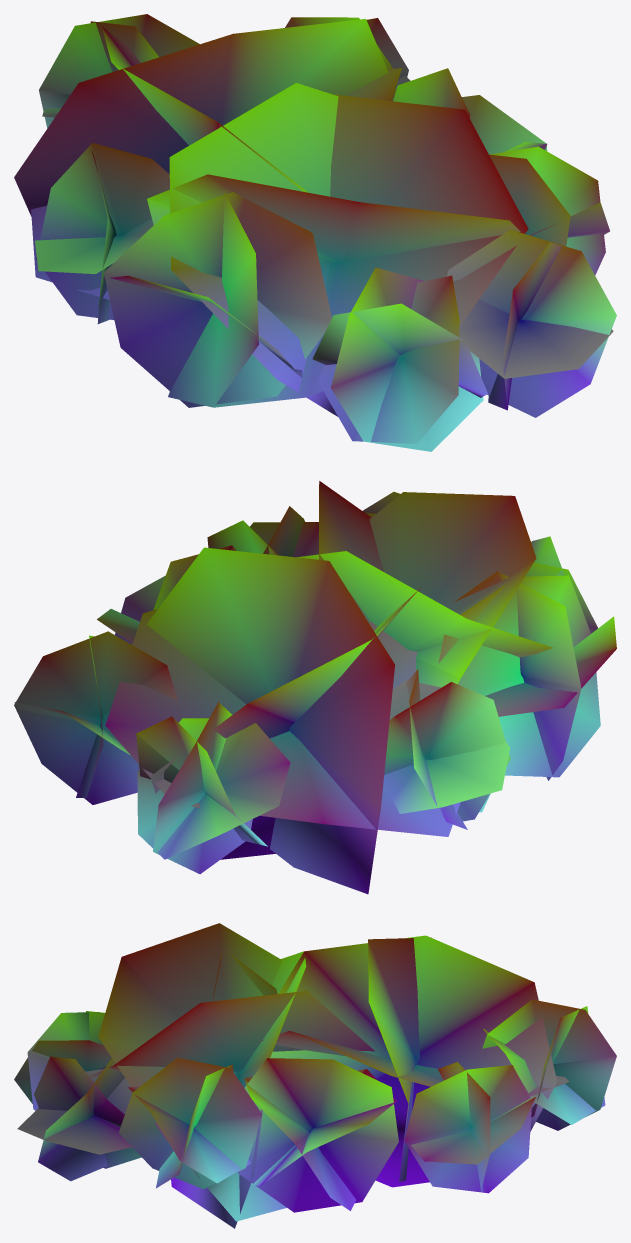
The model's file is Bush_Large_01.fbx.
3 views of the same model, one above another, from view 1: azimuth 30°, elevation 25°; view 2: azimuth 150°, elevation 25°; view 3: azimuth 270°, elevation 25° (orthographic). The views are drawn at different scales.
Parts seen in each view (by area): view 1: Bush_Large_01; view 2: Bush_Large_01; view 3: Bush_Large_01.
Boxes of the visible parts, box(x1,y1,x2,y2) form: Bush_Large_01: box(14, 14, 616, 451); Bush_Large_01: box(14, 481, 616, 894); Bush_Large_01: box(14, 923, 616, 1228).
Size of the model in its own units: 330 by 215 by 474.
